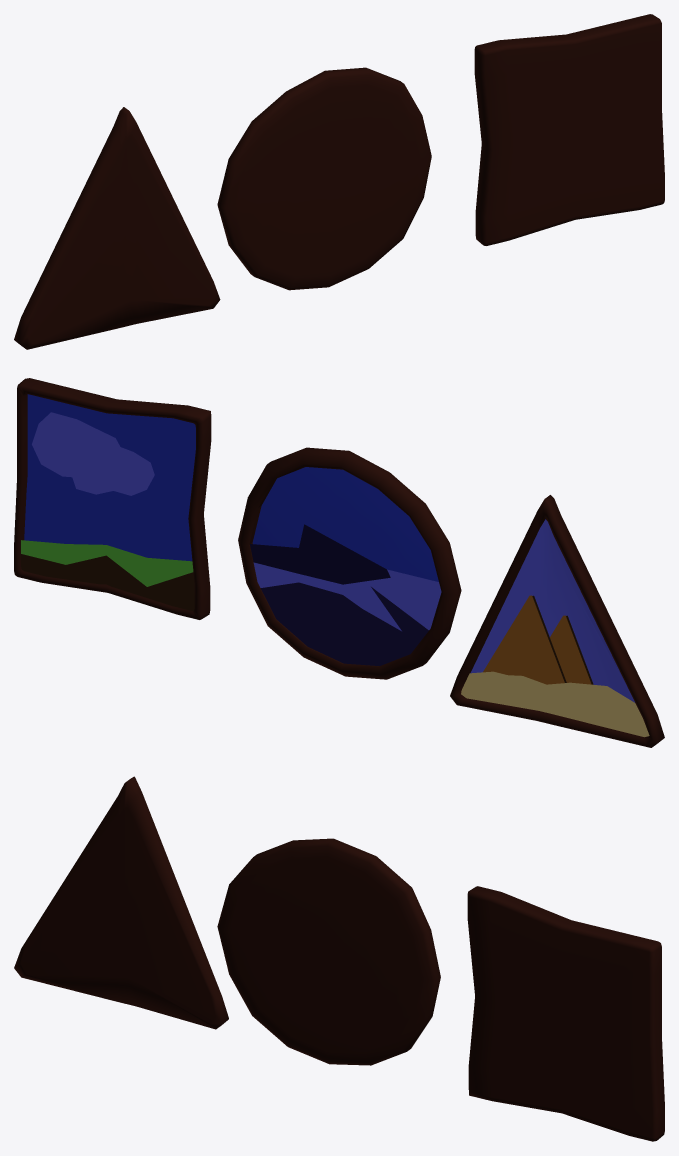
The model's file is Painting.fbx.
3 views of the same model, one above another, from view 1: azimuth 30°, elevation 25°; view 2: azimuth 150°, elevation 25°; view 3: azimuth 330°, elevation 25° (orthographic). The views are drawn at different scales.
Visible parts, largest first — view 1: Square Painting, CirclePainting, TrianglePainting; view 2: Square Painting, CirclePainting, TrianglePainting; view 3: Square Painting, CirclePainting, TrianglePainting.
Boxes of the visible parts, x1,y1,x2,y2 form: Square Painting: (474,14,664,245); CirclePainting: (217,67,431,290); TrianglePainting: (14,107,220,349); Square Painting: (14,378,211,619); CirclePainting: (238,447,461,679); TrianglePainting: (450,495,664,747); Square Painting: (467,886,664,1141); CirclePainting: (217,838,440,1065); TrianglePainting: (14,776,228,1029).
Size of the model in its own units: 250 by 83.95 by 15.48.
